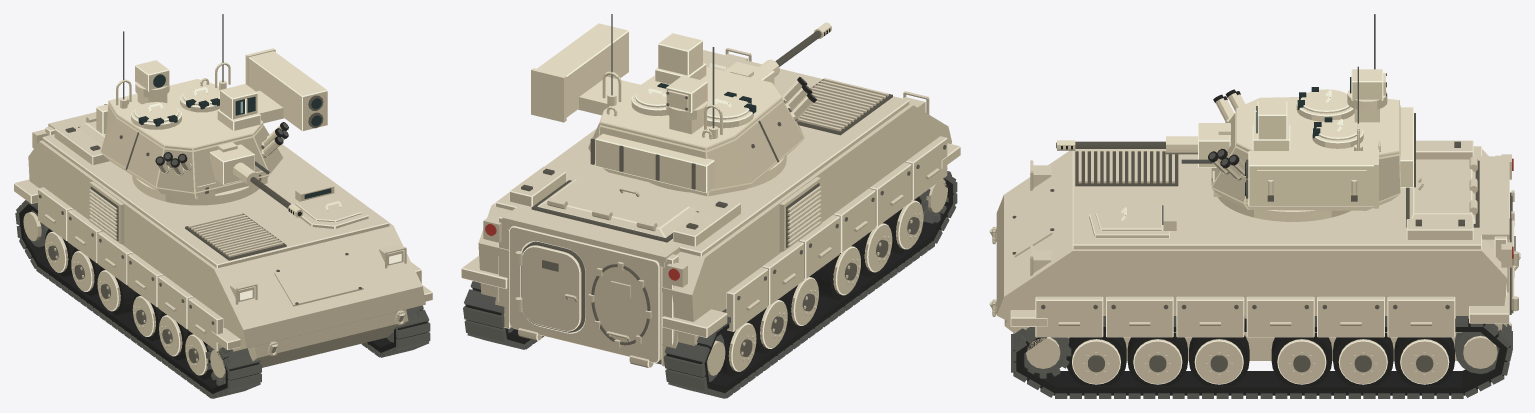
The model's file is m2a3_bradley.glb.
3 views of the same model, side by side, from view 1: azimuth 30°, elevation 25°; view 2: azimuth 150°, elevation 25°; view 3: azimuth 270°, elevation 25° (orthographic). The views are drawn at different scales.
Visible parts, largest first — view 1: Main hull sloped glacis, Deck rim, Faceted turret armor, Turret roof, Twin TOW launcher, Lower armored tub, Glacis service panel, Continuous track -1, Driver hatch, Turret ring, Side skirt panel, Side skirt panel.002 (+29 smaller); view 2: Main hull sloped glacis, Deck rim, Ramp armor, Faceted turret armor, Turret roof, Personnel door, Rear roof hatch, Twin TOW launcher, Continuous track -1, Turret rear basket, Rear roof closure, Side skirt panel.005 (+42 smaller); view 3: Main hull sloped glacis, Deck rim, Continuous track 1, Turret roof, Rear roof hatch, TOW launcher side cover, Twin TOW launcher, Faceted turret armor, Side skirt panel.009, Side skirt panel.008, Side skirt panel.011, Side skirt panel.007 (+38 smaller).
Boxes of the visible parts, x1,y1,x2,y2 form: Main hull sloped glacis: [28, 140, 425, 351]; Deck rim: [42, 134, 389, 268]; Faceted turret armor: [101, 104, 283, 198]; Turret roof: [108, 79, 263, 150]; Twin TOW launcher: [248, 51, 327, 131]; Lower armored tub: [247, 309, 408, 367]; Glacis service panel: [274, 254, 363, 306]; Continuous track -1: [19, 204, 259, 393]; Driver hatch: [295, 193, 361, 222]; Turret ring: [132, 175, 259, 205]; Side skirt panel: [188, 297, 223, 351]; Side skirt panel.002: [128, 253, 162, 307]; Main hull sloped glacis: [478, 104, 951, 345]; Deck rim: [495, 50, 909, 256]; Ramp armor: [509, 226, 661, 362]; Faceted turret armor: [588, 100, 804, 196]; Turret roof: [599, 66, 782, 150]; Personnel door: [521, 245, 581, 331]; Rear roof hatch: [537, 179, 697, 237]; Twin TOW launcher: [537, 23, 628, 117]; Continuous track -1: [666, 178, 953, 392]; Turret rear basket: [595, 134, 714, 193]; Rear roof closure: [502, 206, 680, 262]; Side skirt panel.005: [726, 267, 768, 331]; Main hull sloped glacis: [996, 149, 1507, 332]; Deck rim: [1072, 146, 1481, 249]; Continuous track 1: [1013, 318, 1510, 395]; Turret roof: [1235, 97, 1399, 157]; Rear roof hatch: [1409, 159, 1475, 223]; TOW launcher side cover: [1257, 170, 1366, 203]; Twin TOW launcher: [1248, 151, 1373, 206]; Faceted turret armor: [1211, 105, 1400, 210]; Side skirt panel.009: [1246, 296, 1314, 337]; Side skirt panel.008: [1176, 296, 1244, 337]; Side skirt panel.011: [1387, 296, 1455, 337]; Side skirt panel.007: [1106, 296, 1173, 337].
Bounding box in the file's own units: 3.48 × 4.02 × 6.49.
